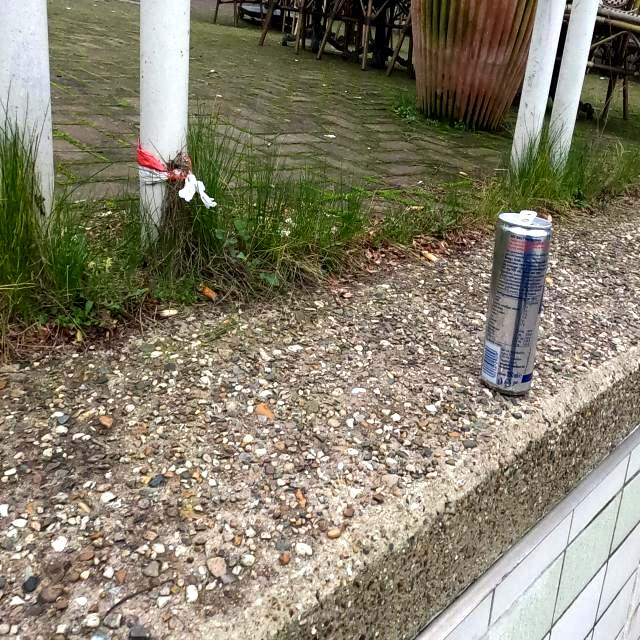Metal: (478, 206, 552, 400)
Paper: (178, 172, 218, 210)
